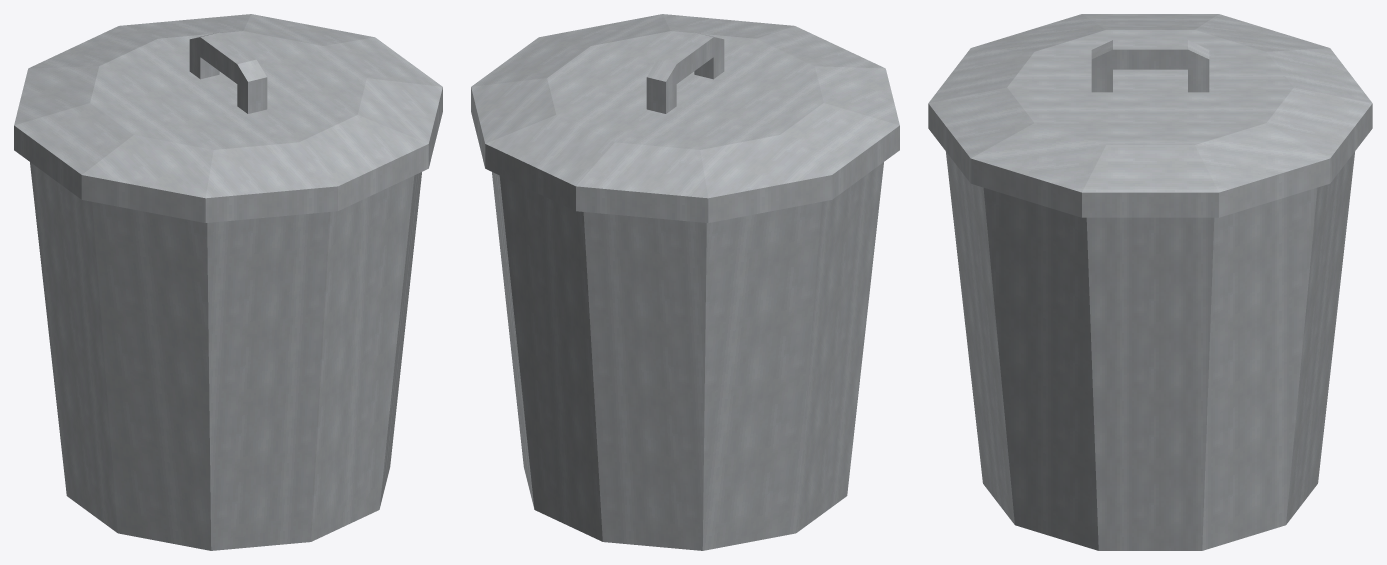
The model's file is TrashCan.fbx.
The picture shows the model from 3 angles, left to right: view 1: azimuth 30°, elevation 25°; view 2: azimuth 150°, elevation 25°; view 3: azimuth 270°, elevation 25°; orthographic projection.
Visible parts, largest first — view 1: TrashCan; view 2: TrashCan; view 3: TrashCan.
Boxes of the visible parts, <box> form: TrashCan: <box>14,14,442,550</box>; TrashCan: <box>471,14,899,550</box>; TrashCan: <box>928,14,1372,550</box>.
Size of the model in its own units: 227 by 216 by 247.
